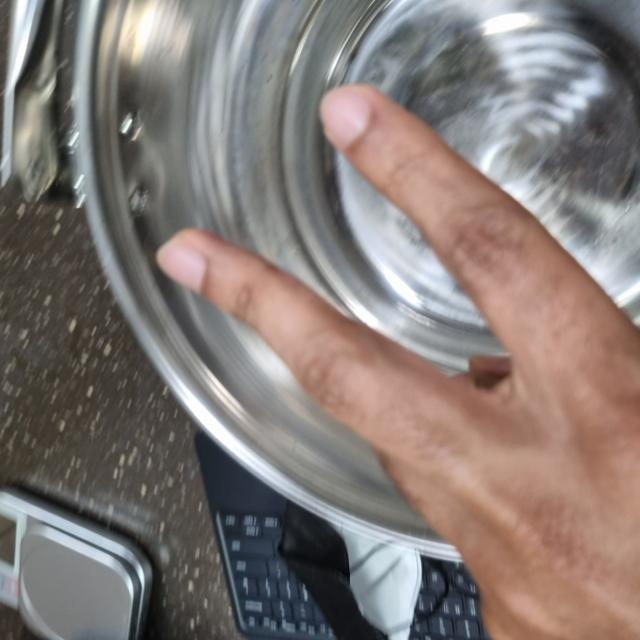Scissors: (0, 167, 547, 639)
